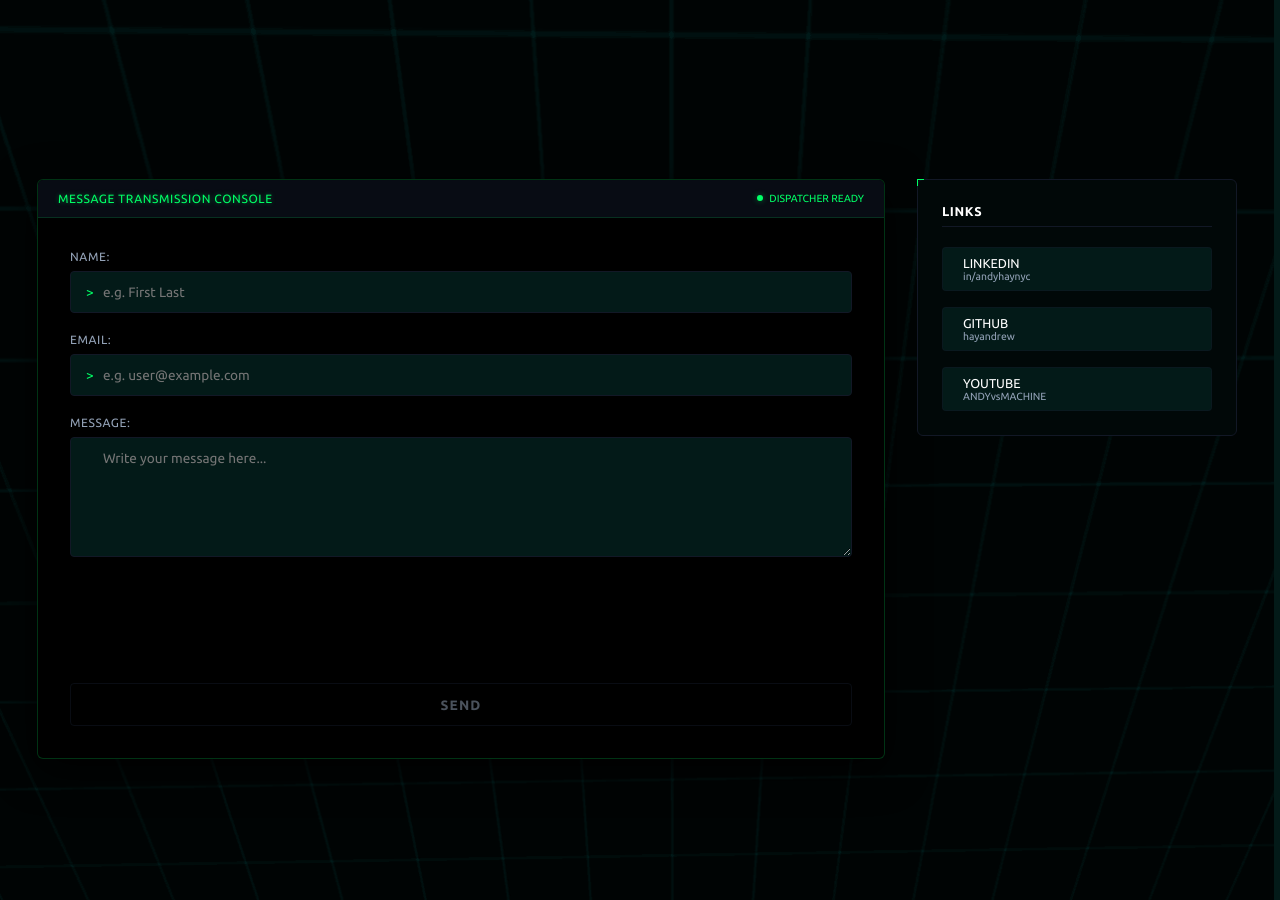
Test: ContactPage Component › should display error message if reCAPTCHA is not completed
This screenshot has width=1280, height=900.
Type "Andy" into the field labelled "NAME:".
click(461, 292); type("Andy")  # box left=70, top=271, right=852, bottom=313
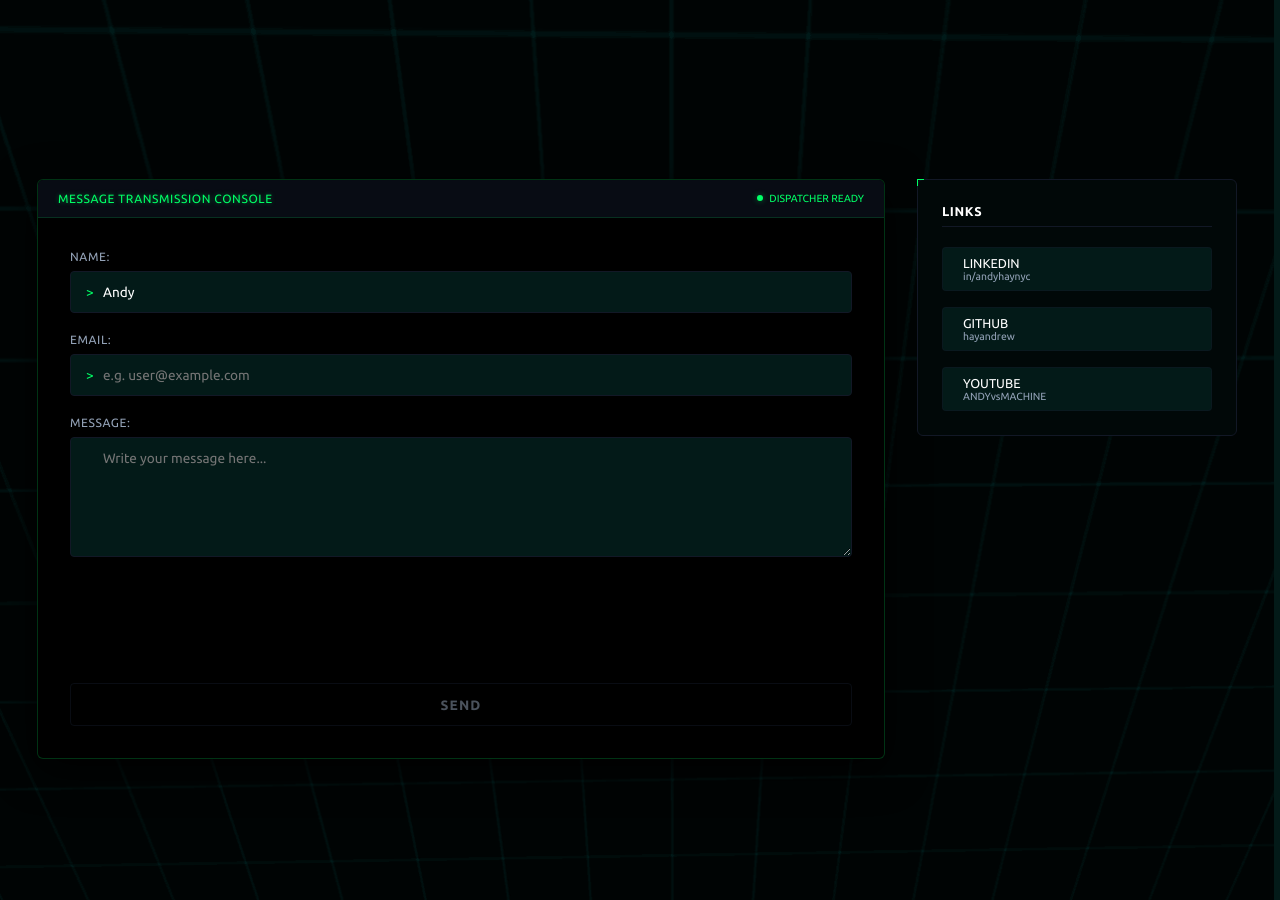
Type "andy@example.com" into the field labelled "EMAIL:".
click(461, 375); type("andy@example.com")  # box left=70, top=354, right=852, bottom=396
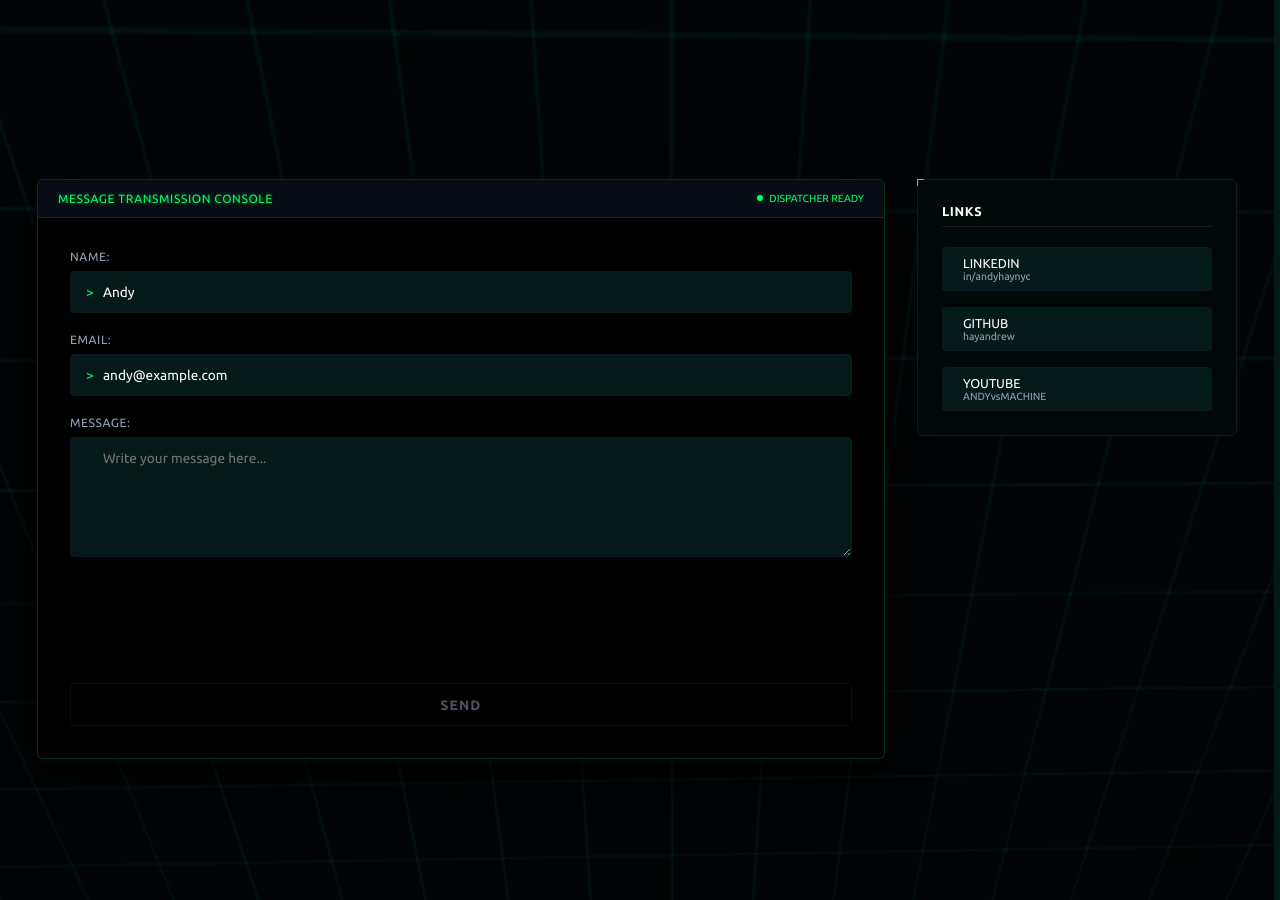
Type "Hello" into the text box labelled "MESSAGE:".
click(461, 497); type("Hello")  # box left=70, top=437, right=852, bottom=557
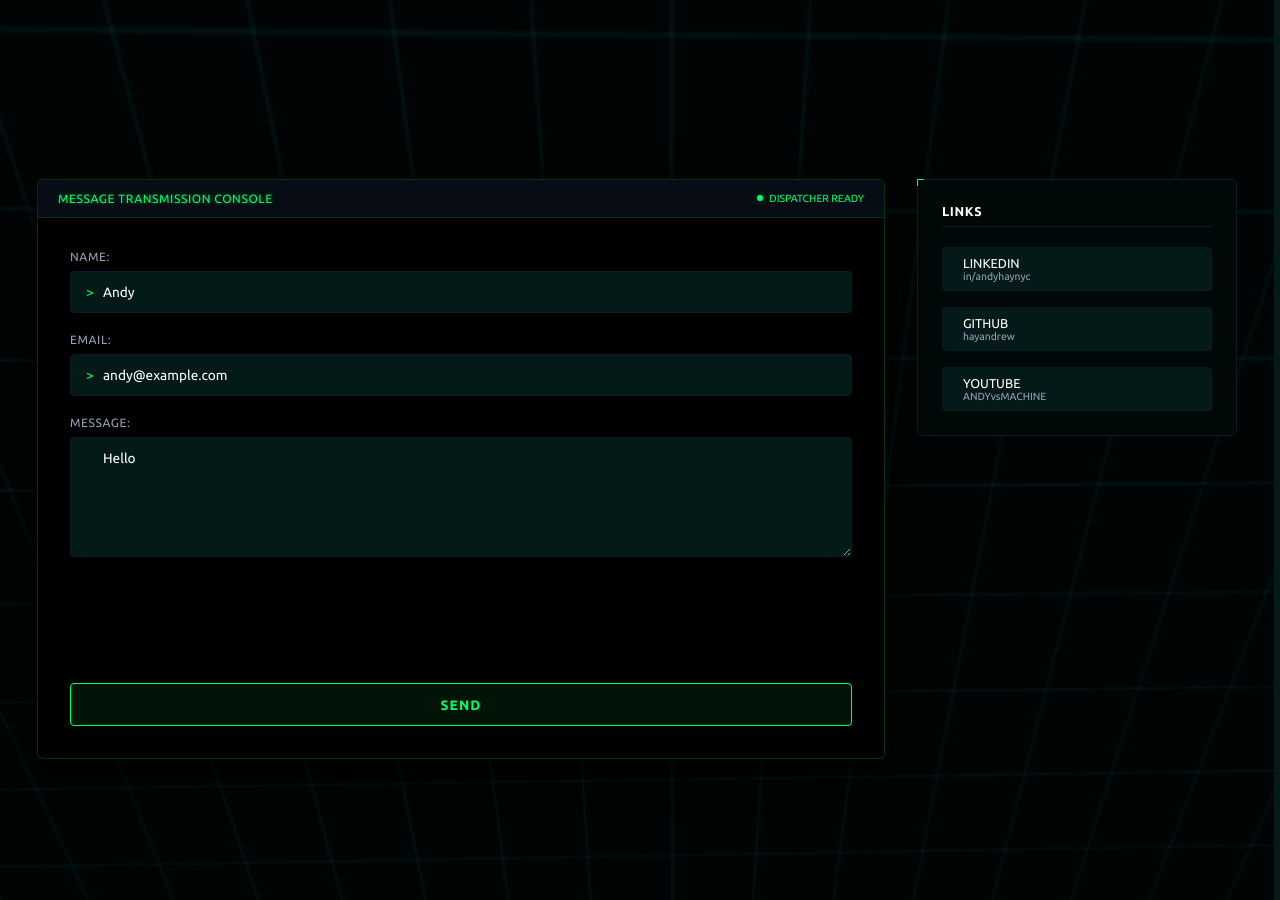
Click the button "SEND".
click(461, 704)  # box left=70, top=683, right=852, bottom=726
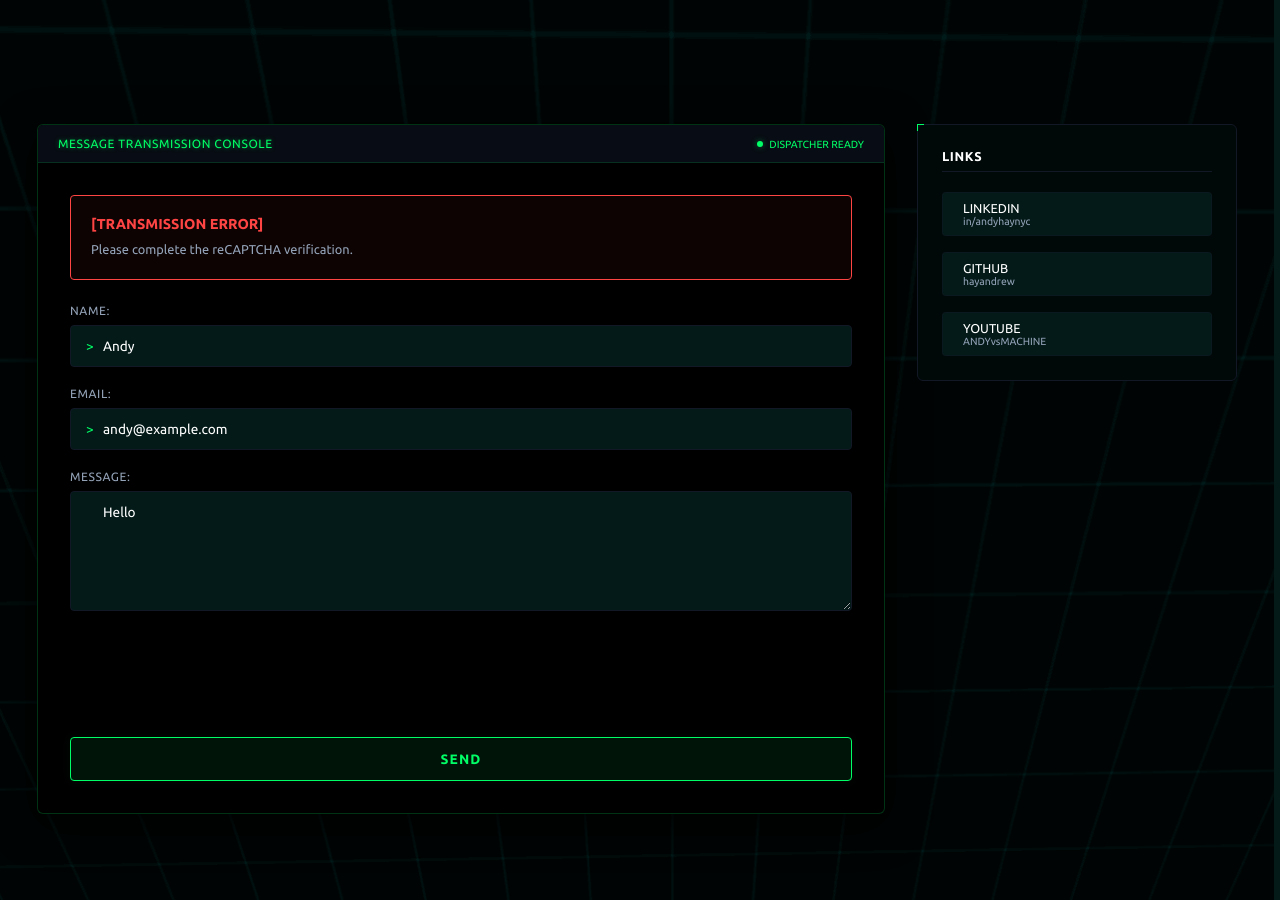
Result: the text "Please complete the reCAPTCHA verification." is shown at left=91, top=242, right=353, bottom=256
